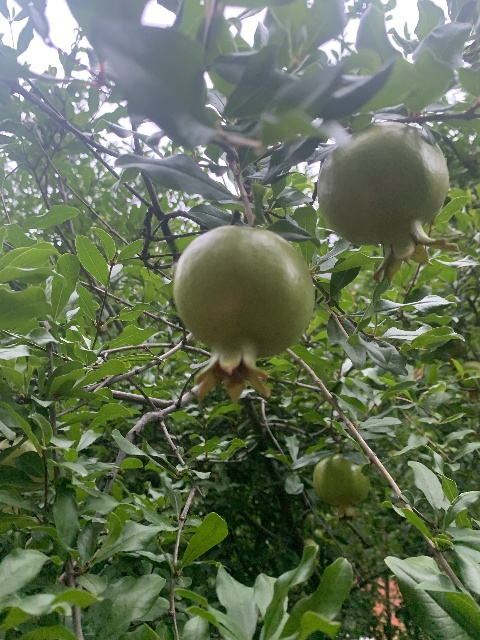mid-growth: (172, 224, 316, 403), (316, 120, 459, 285), (312, 453, 369, 521)
